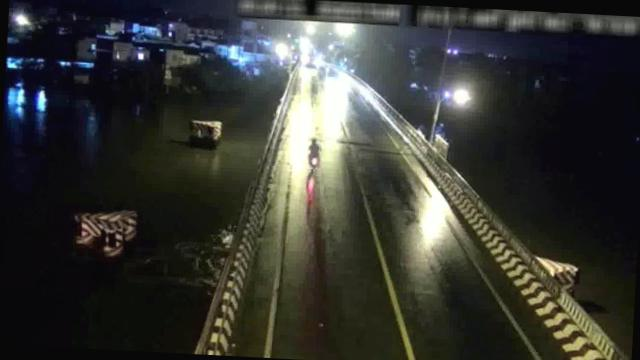Bike: (305, 136, 322, 169)
